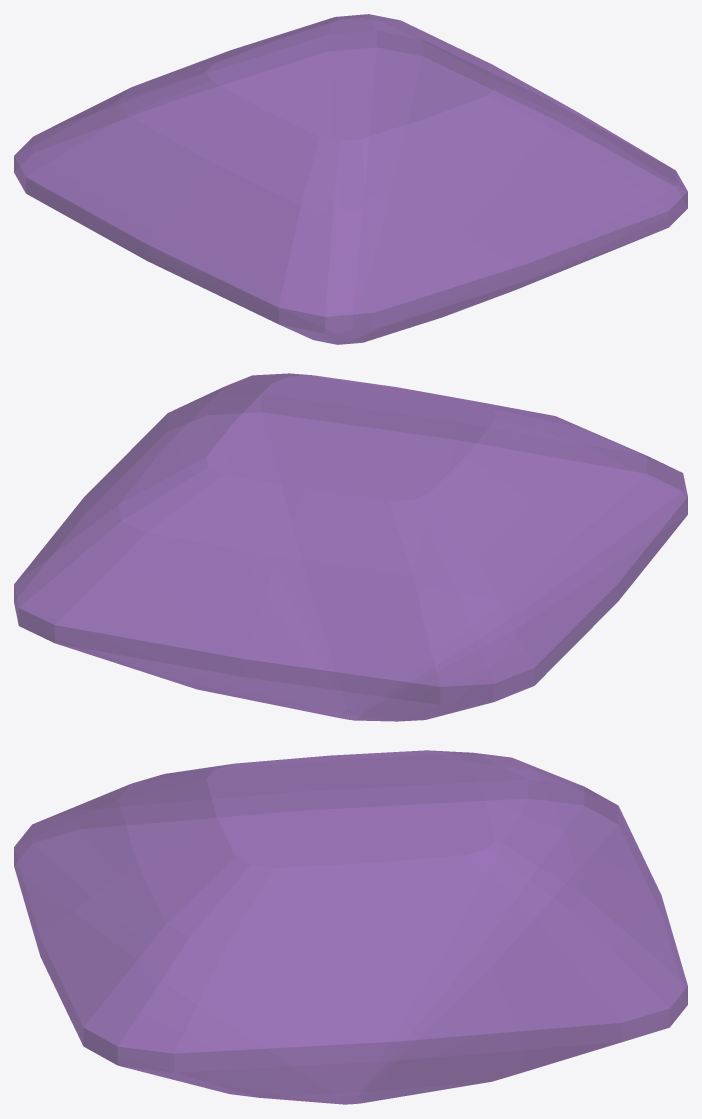
File: stone-amethyst.glb
3 renders of one model, top to bottom at view 1: azimuth 30°, elevation 25°; view 2: azimuth 150°, elevation 25°; view 3: azimuth 270°, elevation 25°, orthographic. The views are drawn at different scales.
Visible parts, largest first — view 1: Sculpture; view 2: Sculpture; view 3: Sculpture.
Part boxes in pixels (<box>): Sculpture: <box>14,14,687,344</box>; Sculpture: <box>14,373,687,721</box>; Sculpture: <box>14,750,687,1104</box>.
Size of the model in its own units: 2.16 by 1.07 by 2.25.
